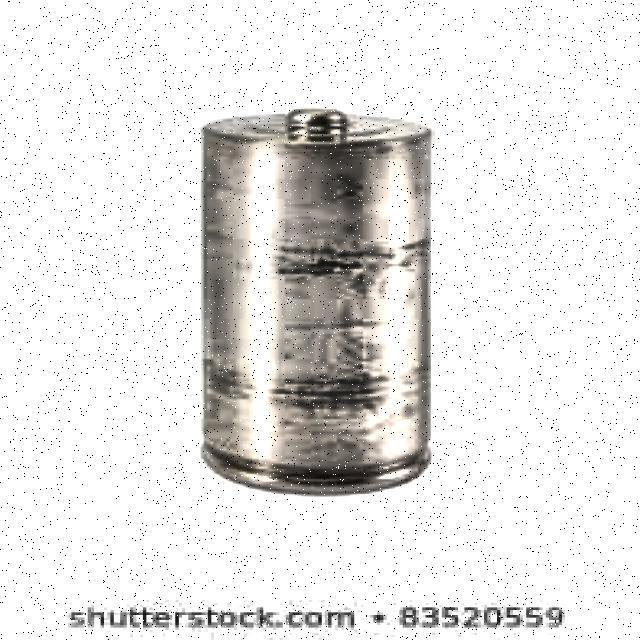B3: (182, 79, 473, 528)
